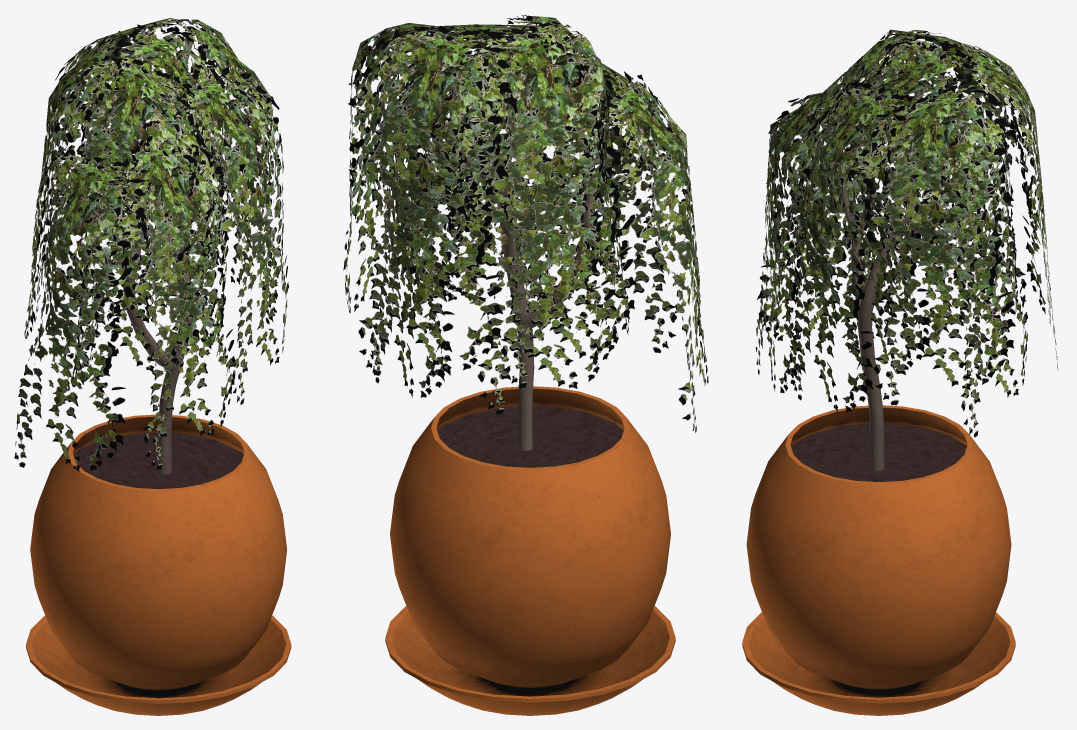
The picture shows the model from 3 angles, left to right: view 1: azimuth 30°, elevation 25°; view 2: azimuth 150°, elevation 25°; view 3: azimuth 270°, elevation 25°; orthographic projection. The views are drawn at different scales.
Parts seen in each view (by area): view 1: Leafs, Plant, Plant001; view 2: Leafs, Plant, Plant001; view 3: Leafs, Plant, Plant001.
Boxes of the visible parts, x1=… form: Leafs: x1=14, y1=18, x2=288, y2=471; Plant: x1=26, y1=414, x2=291, y2=715; Plant001: x1=62, y1=29, x2=194, y2=474; Leafs: x1=343, y1=15, x2=708, y2=432; Plant: x1=385, y1=386, x2=675, y2=715; Plant001: x1=415, y1=36, x2=641, y2=450; Leafs: x1=755, y1=29, x2=1058, y2=437; Plant: x1=742, y1=405, x2=1015, y2=715; Plant001: x1=799, y1=33, x2=997, y2=470.
Bounding box in the file's own units: 84 × 179 × 81.2.
4 materials, 4 textured.
